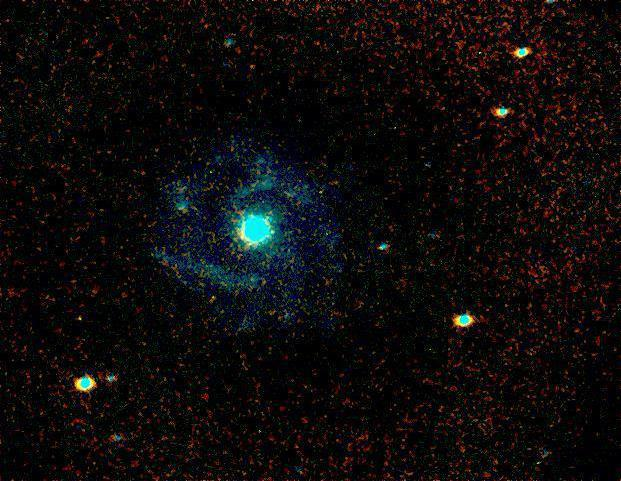star: (256, 219, 286, 249)
